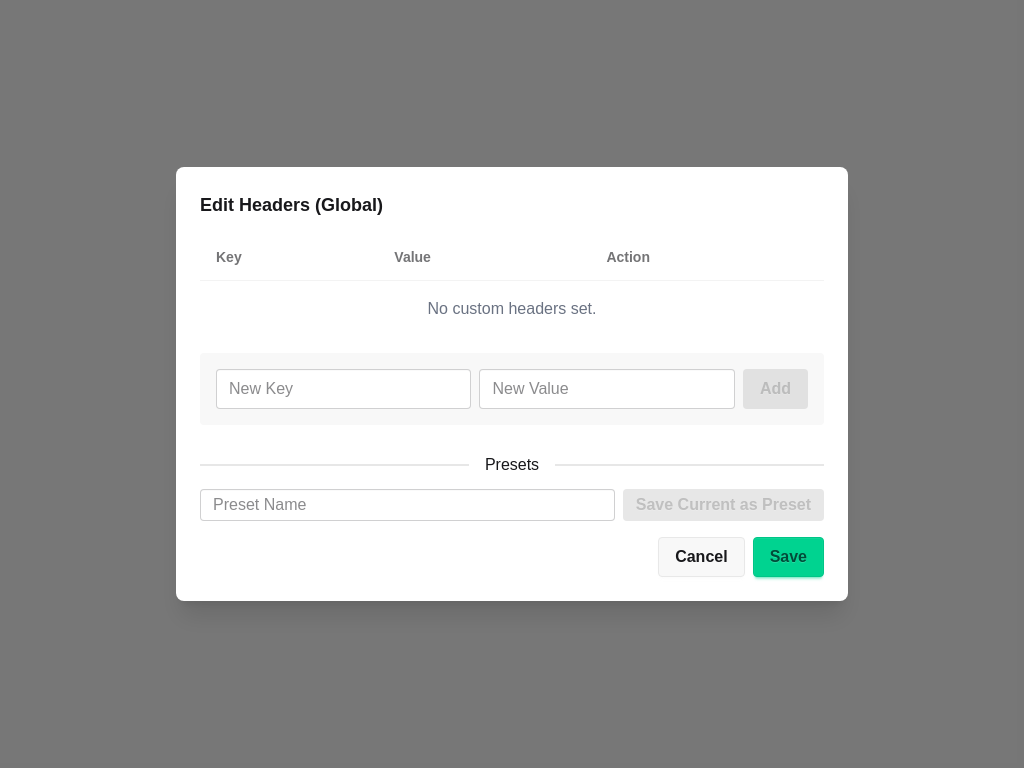
Test: HeadersEditor Component › should save and load a preset
// Add a header
In the field with placeholder "New Key": [344, 389] box [216,369,471,409], type "Foo"
In the field with placeholder "New Value": [607, 389] box [479,369,735,409], type "Bar"
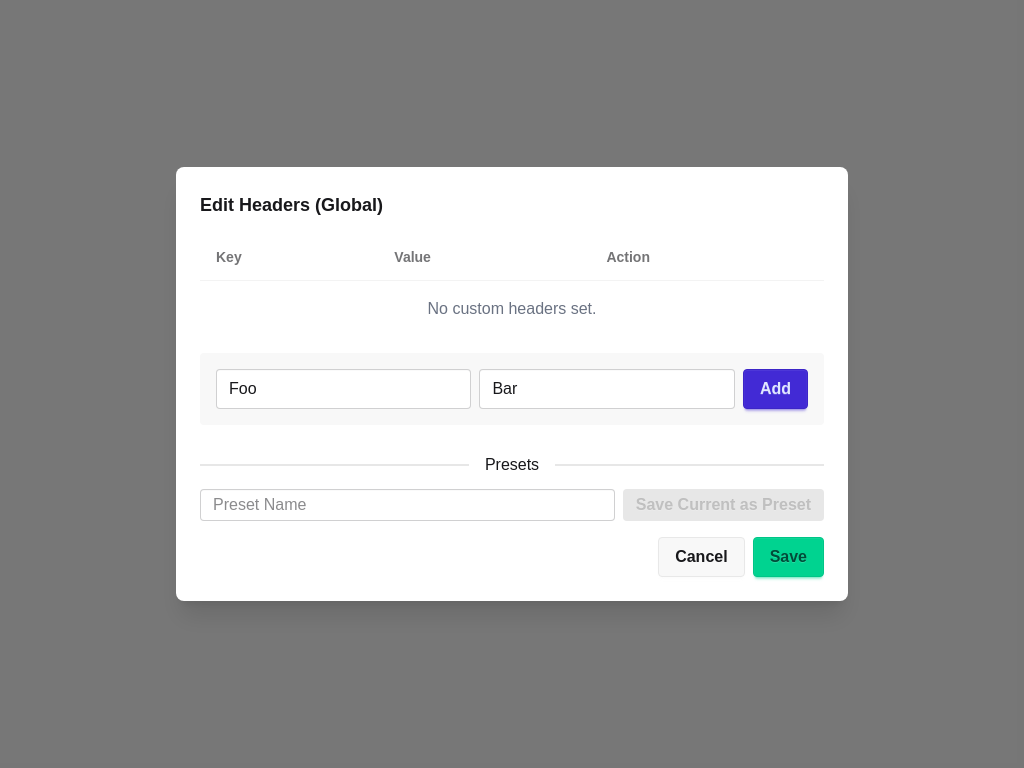
Click the button "Add": [775, 389] box [743,369,808,409]
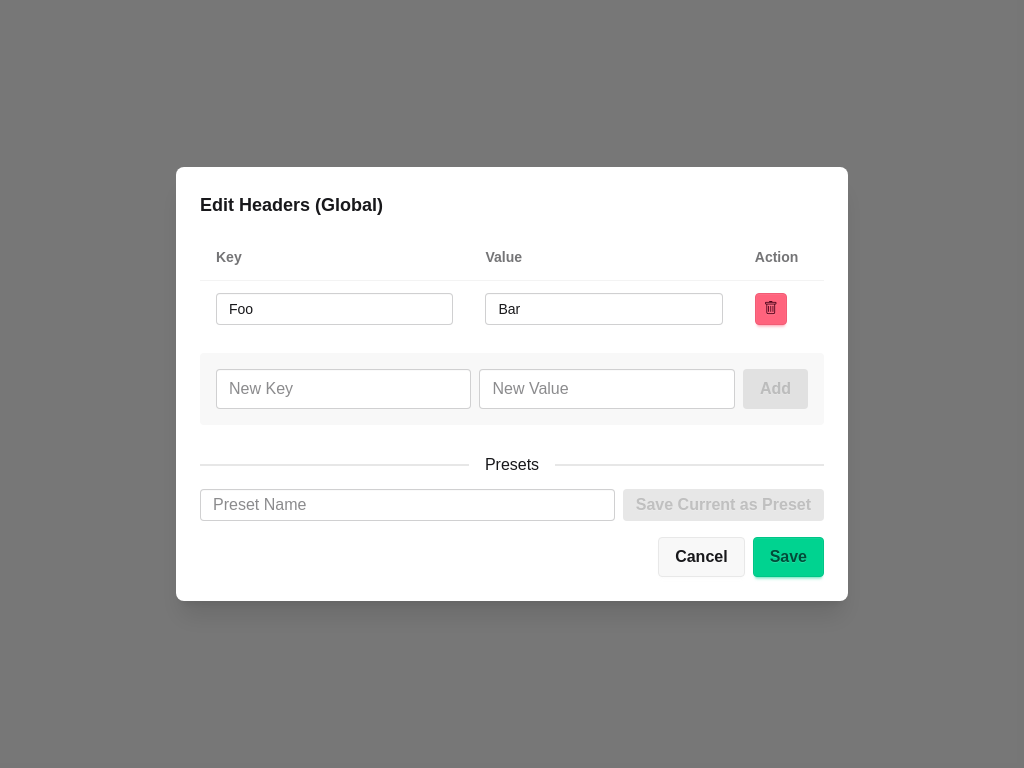
In the field with placeholder "Preset Name": [407, 505] box [200,489,615,521], type "MyPreset"
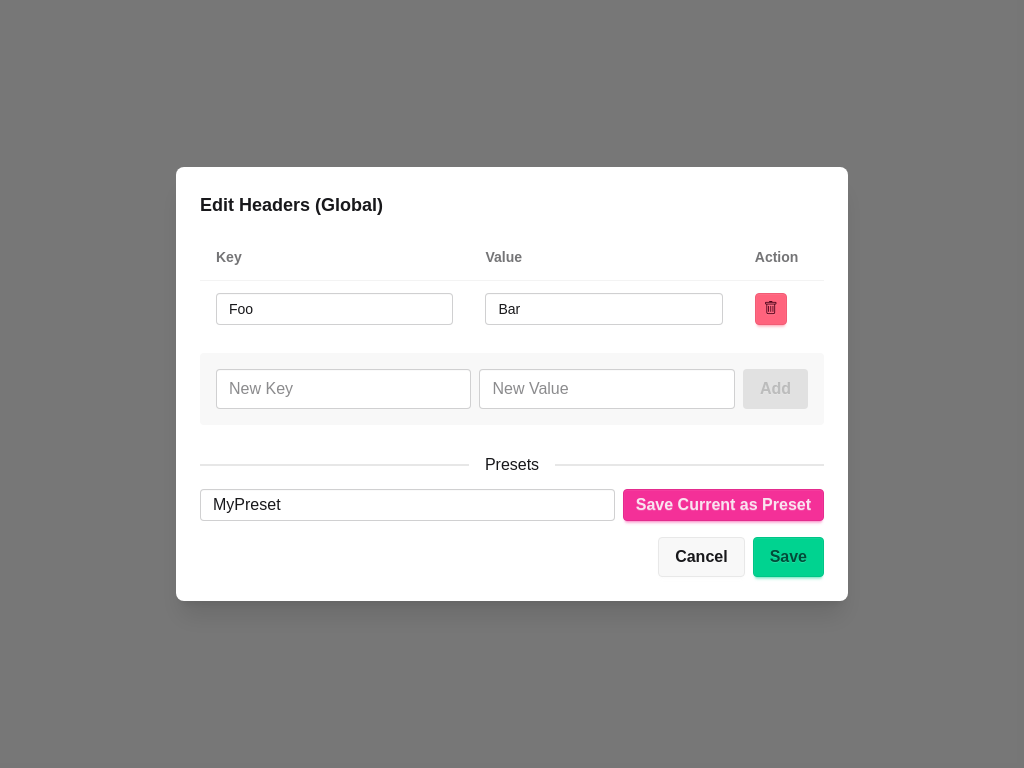
Click the button "Save Current as Preset": [723, 505] box [623,489,824,521]
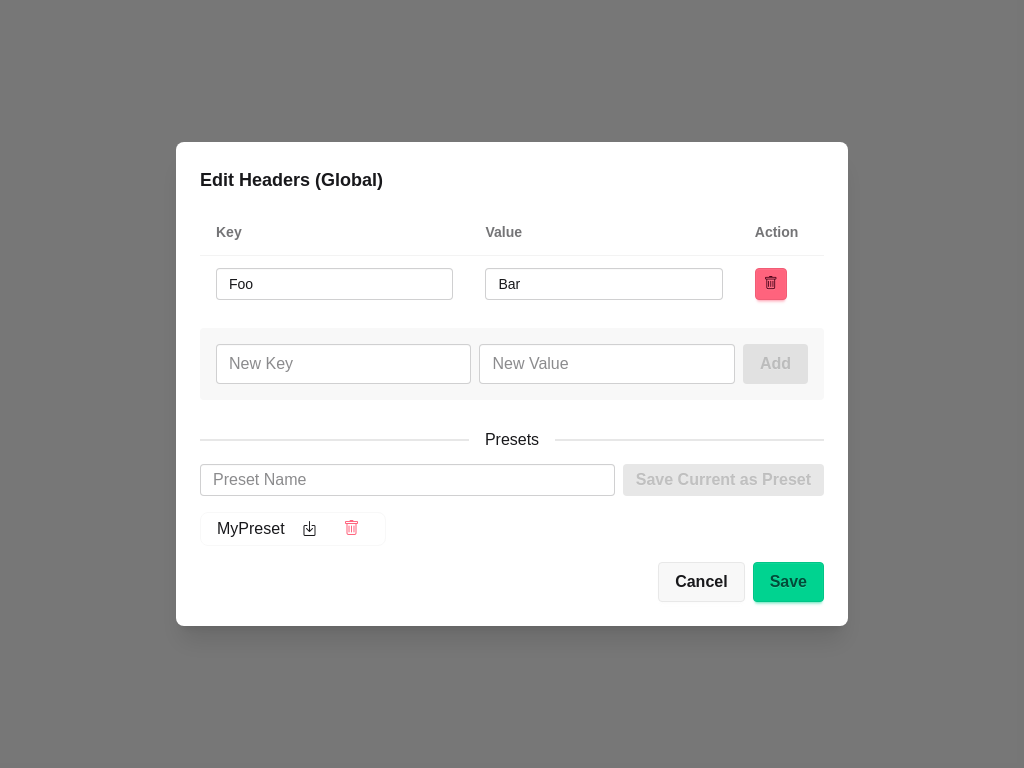
Expected: the text "MyPreset" is shown, [200,512,386,546]
Click the button named "Delete header": [771, 284] box [755,268,787,300]
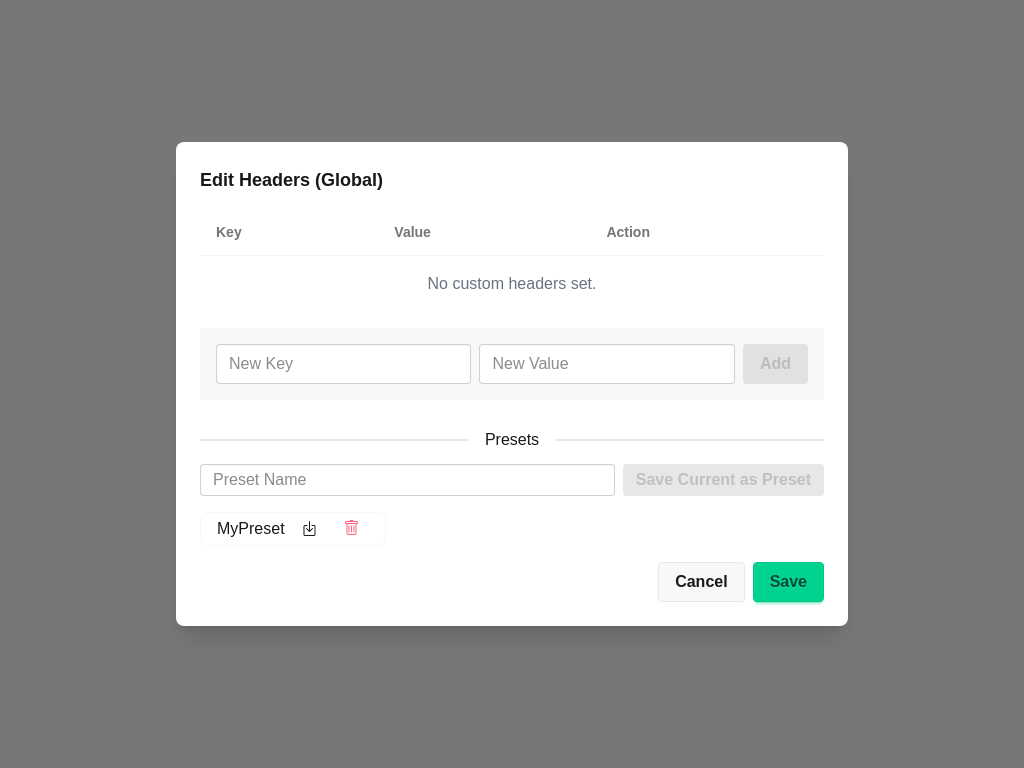
Expected: the field with placeholder "New Key" is empty, [216,344,471,384]
// Load preset
Click the button named "Load preset": [310, 529] box [293,517,327,541]
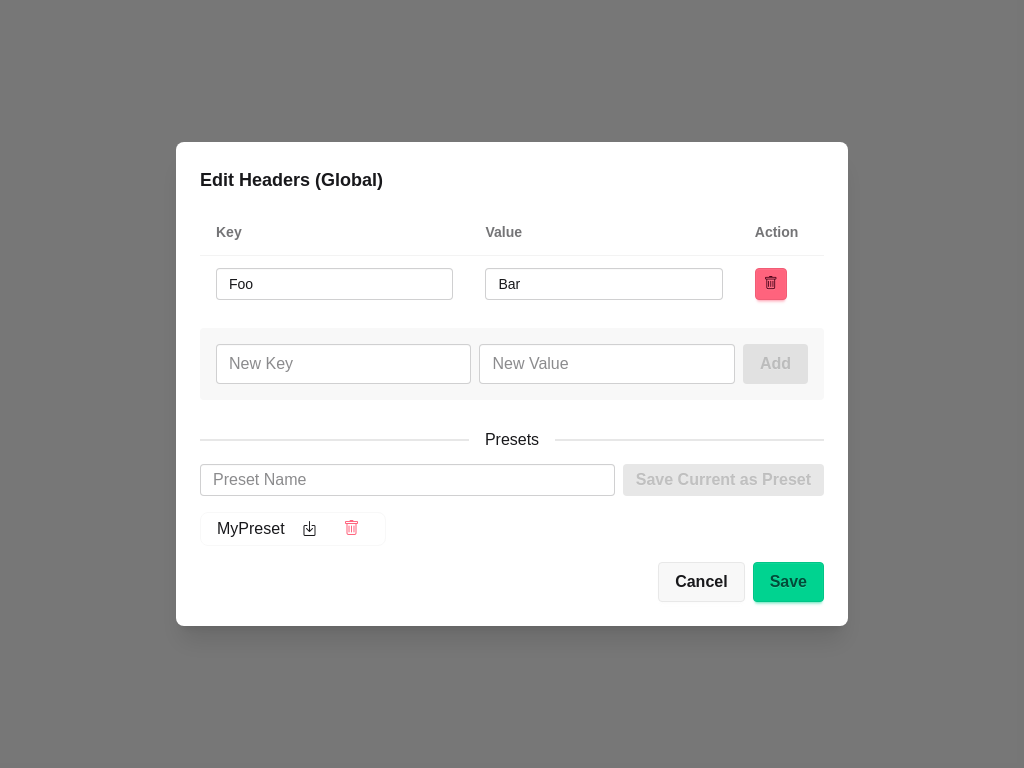
Expected: the 1st field is shown, [216,268,453,300]
